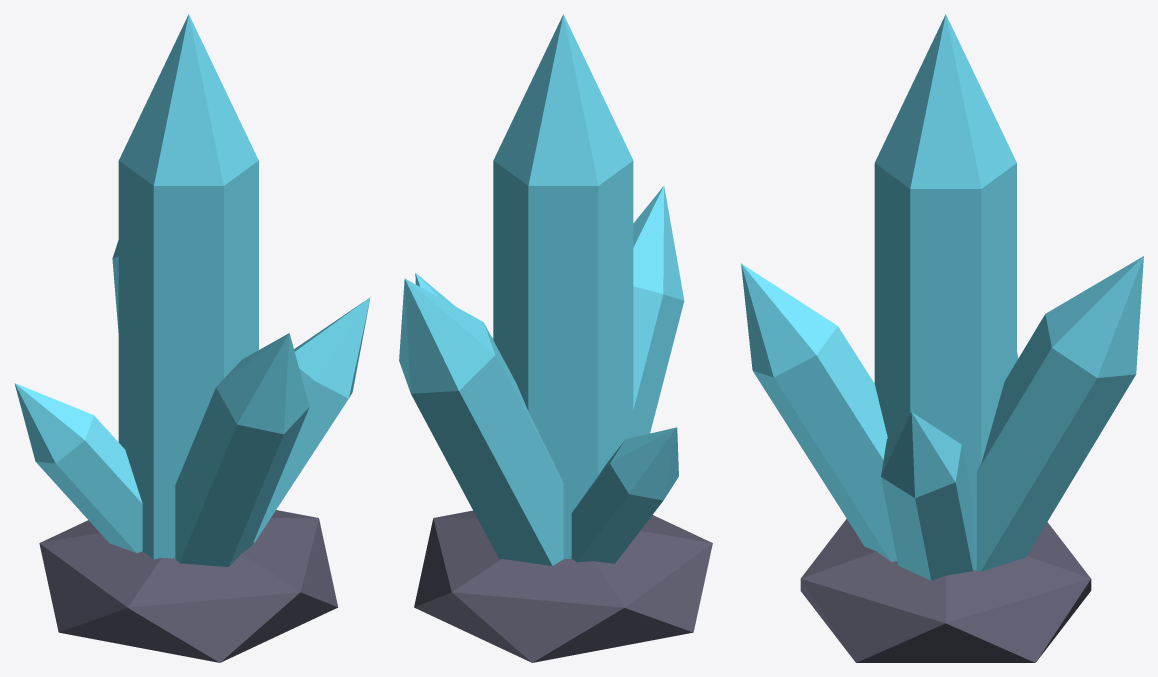
File: crystal.obj
The picture shows the model from 3 angles, left to right: view 1: azimuth 30°, elevation 25°; view 2: azimuth 150°, elevation 25°; view 3: azimuth 270°, elevation 25°; orthographic projection.
Visible parts, largest first — view 1: crystal; view 2: crystal; view 3: crystal.
Boxes of the visible parts, bbox=[...] form: crystal: bbox=[14, 14, 370, 662]; crystal: bbox=[399, 14, 712, 662]; crystal: bbox=[741, 14, 1143, 662].
Bounding box in the file's own units: 0.6625 × 1.27 × 0.7358.
